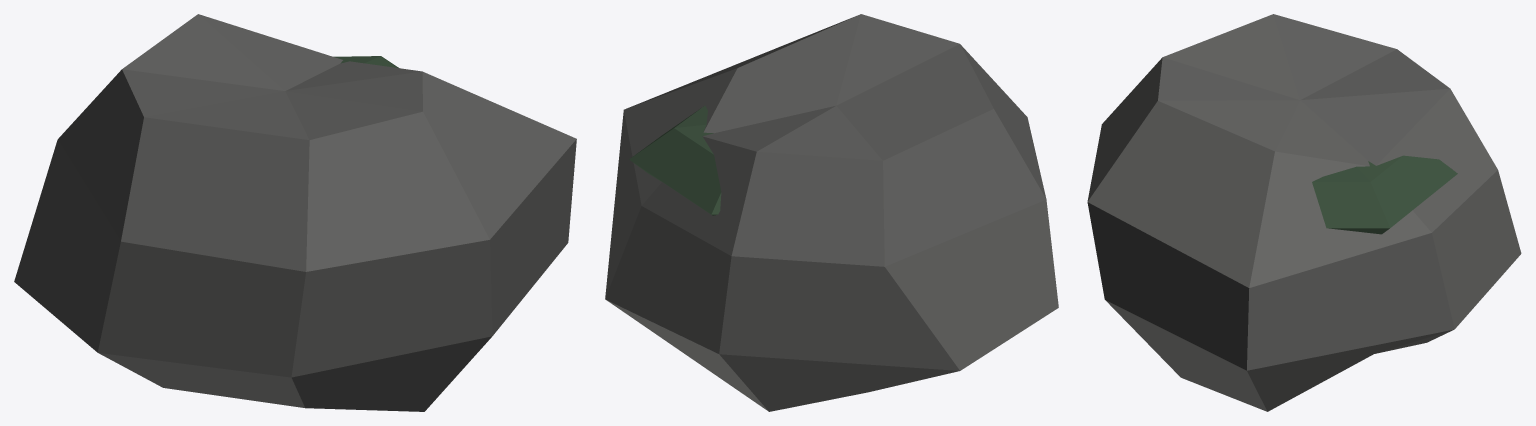
The model's file is piatra_1.glb.
3 views of the same model, side by side, from view 1: azimuth 30°, elevation 25°; view 2: azimuth 150°, elevation 25°; view 3: azimuth 270°, elevation 25° (orthographic). The views are drawn at different scales.
Parts seen in each view (by area): view 1: Piatra; view 2: Piatra; view 3: Piatra.
Boxes of the visible parts, x1=… form: Piatra: x1=14, y1=14, x2=576, y2=411; Piatra: x1=605, y1=14, x2=1058, y2=411; Piatra: x1=1087, y1=14, x2=1521, y2=411.
Size of the model in its own units: 1.27 by 0.835 by 1.16.
